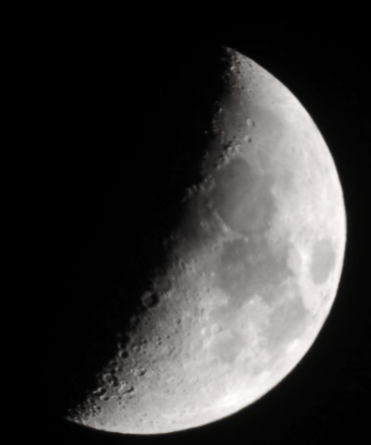crater: (138, 289, 165, 316), (239, 132, 263, 152), (240, 114, 265, 132), (283, 138, 300, 158), (209, 318, 225, 336), (132, 365, 150, 380)
